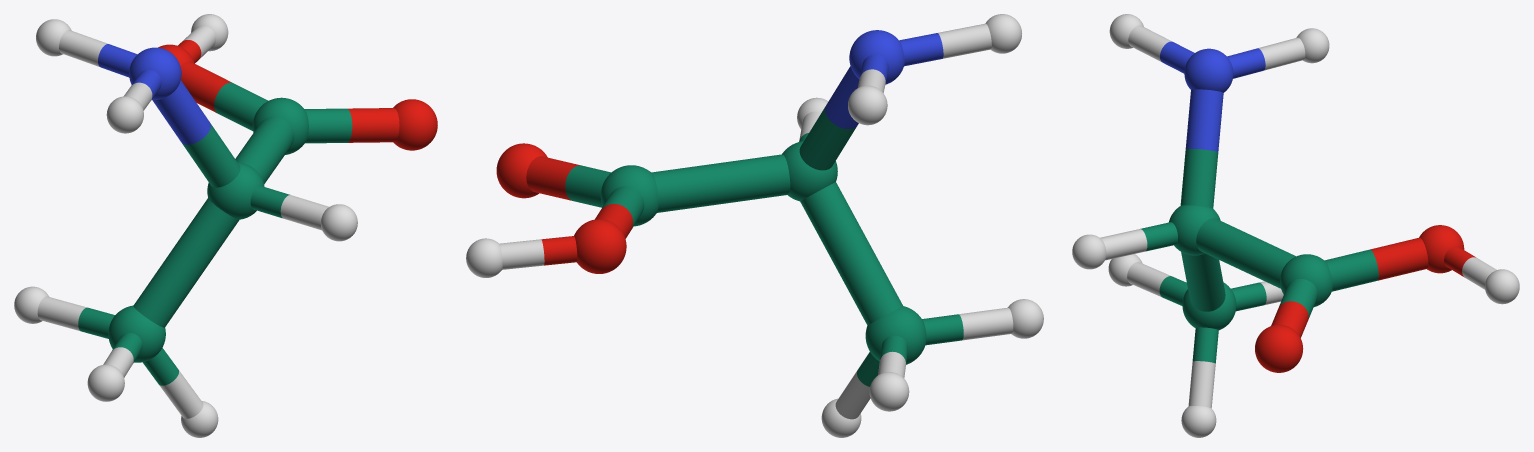
Rendered from ALA.glb.
3 renders of one model, left to right at view 1: azimuth 30°, elevation 25°; view 2: azimuth 150°, elevation 25°; view 3: azimuth 270°, elevation 25°, orthographic. The views are drawn at different scales.
Size of the model in its own units: 4.35 by 3.84 by 4.22.
